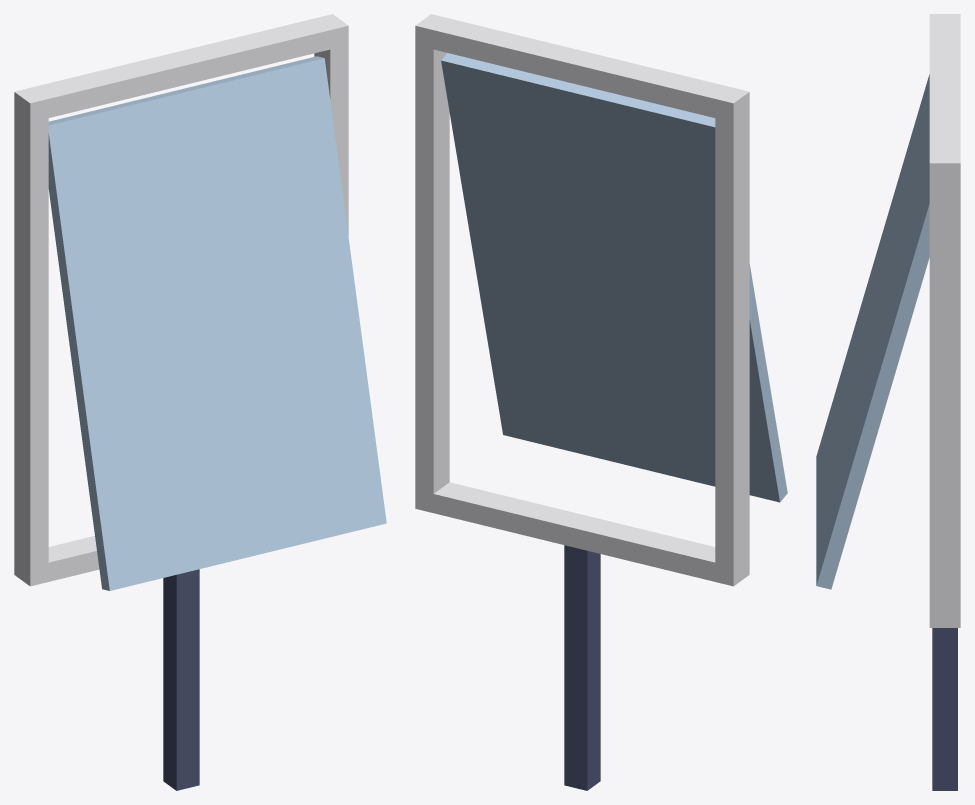
The model's file is station_transport_ausstattung_2_0.glb.
3 renders of one model, left to right at view 1: azimuth 30°, elevation 25°; view 2: azimuth 150°, elevation 25°; view 3: azimuth 270°, elevation 25°, orthographic. The views are drawn at different scales.
Parts seen in each view (by area): view 1: station_transport_ausstattung_2_0; view 2: station_transport_ausstattung_2_0; view 3: station_transport_ausstattung_2_0.
Part boxes in pixels (box(x1,y1,x2,y2)): station_transport_ausstattung_2_0: box(14, 14, 386, 790); station_transport_ausstattung_2_0: box(415, 14, 787, 790); station_transport_ausstattung_2_0: box(816, 14, 960, 790).
Bounding box in the file's own units: 0.69 × 1.5 × 0.281.
